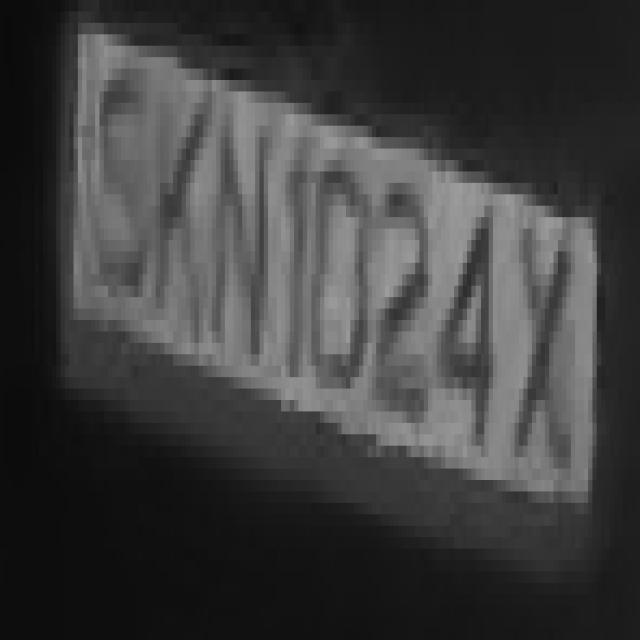0: (302, 126, 368, 423)
1: (268, 92, 324, 434)
2: (368, 137, 437, 434)
4: (437, 148, 510, 503)
K: (156, 23, 216, 354)
N: (208, 69, 272, 412)
S: (95, 11, 160, 343)
X: (502, 206, 575, 537)
